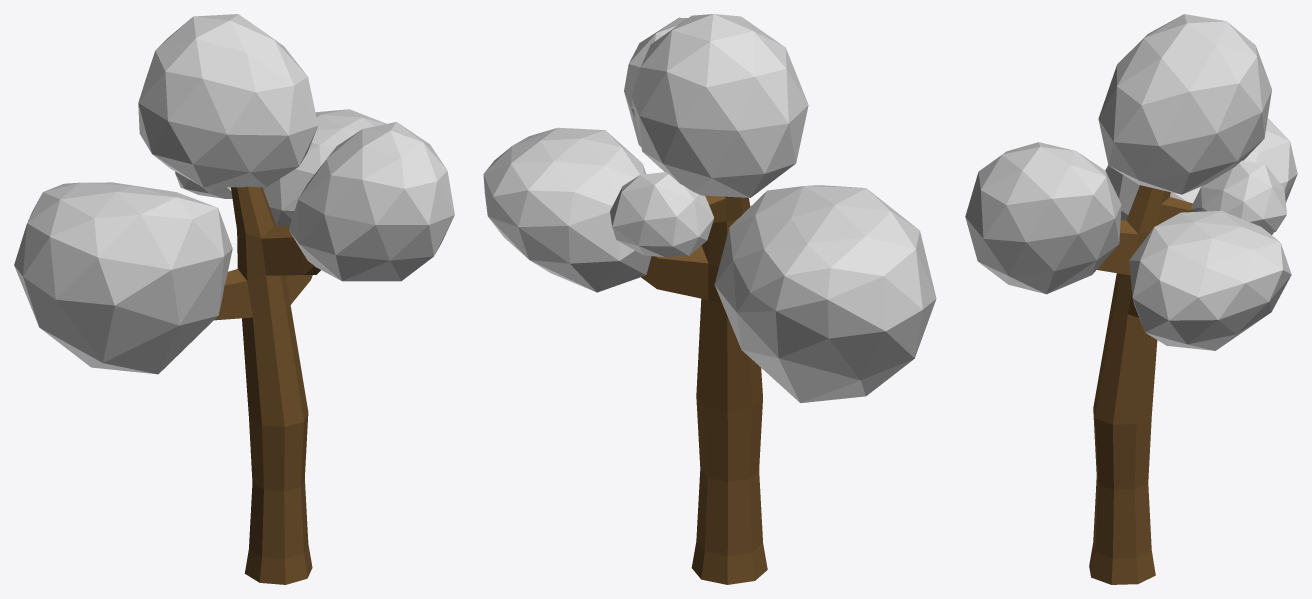
The model's file is Tree.fbx.
The picture shows the model from 3 angles, left to right: view 1: azimuth 30°, elevation 25°; view 2: azimuth 150°, elevation 25°; view 3: azimuth 270°, elevation 25°; orthographic projection. The views are drawn at different scales.
Parts seen in each view (by area): view 1: Cylinder.014; view 2: Cylinder.014; view 3: Cylinder.014.
Part boxes in pixels (left/top/right/bottom): Cylinder.014: left=14, top=14, right=454, bottom=584; Cylinder.014: left=483, top=14, right=936, bottom=584; Cylinder.014: left=965, top=14, right=1297, bottom=584.
Size of the model in its own units: 71.15 by 91.95 by 51.39.
